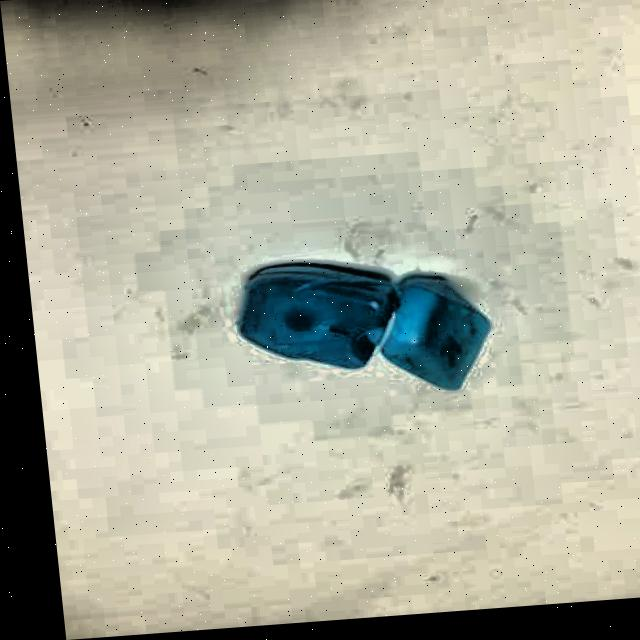trash: (235, 243, 500, 409)
